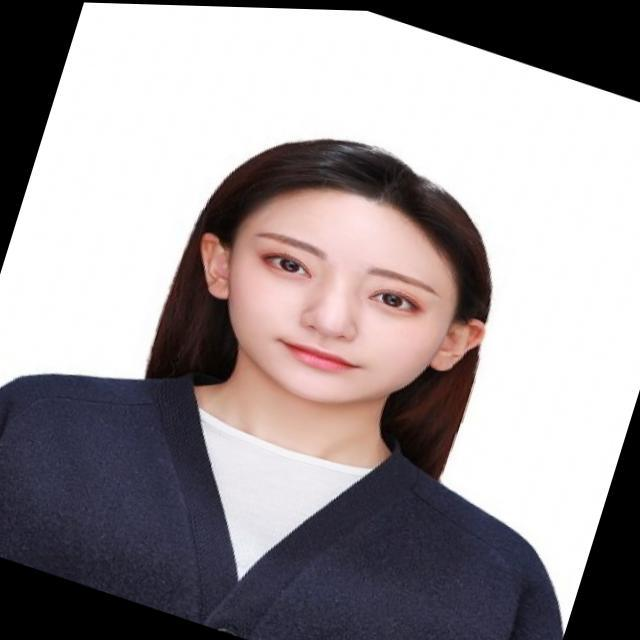Nonhelmet: (142, 134, 495, 480)
